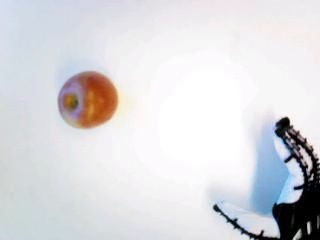apple: (57, 69, 120, 130)
hand: (212, 115, 320, 240)
